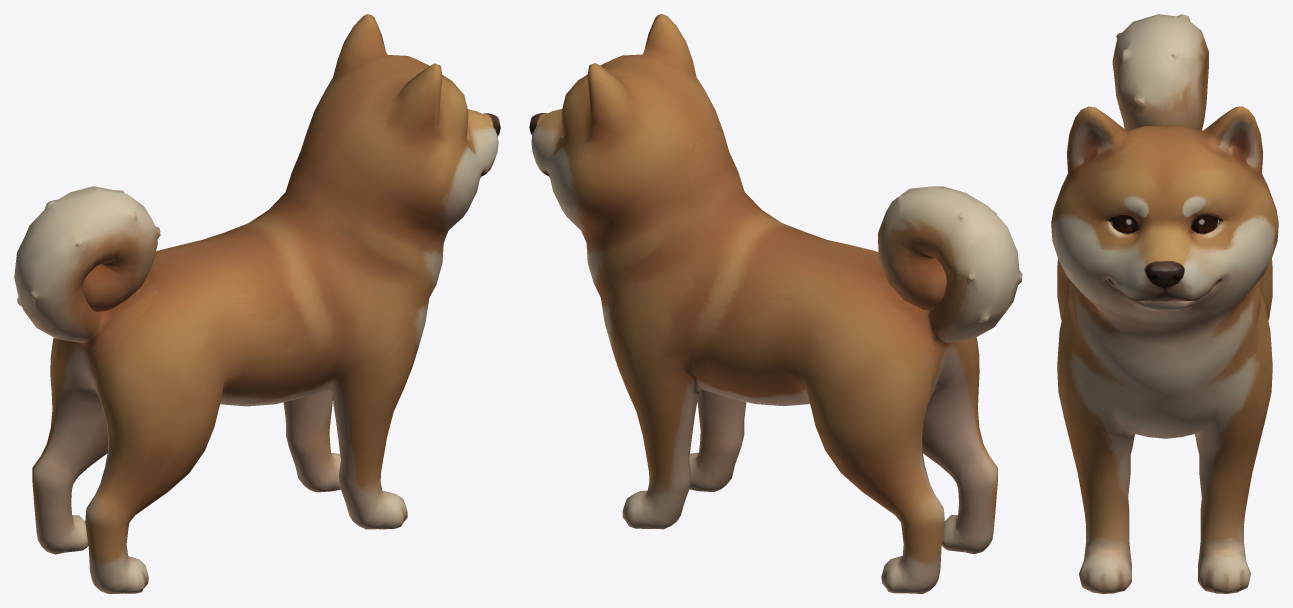
Rendered from village_dog.glb.
3 views of the same model, side by side, from view 1: azimuth 30°, elevation 25°; view 2: azimuth 150°, elevation 25°; view 3: azimuth 270°, elevation 25° (orthographic). The views are drawn at different scales.
Visible parts, largest first — view 1: tripo_node_c631aae7-34c2-4f68-a710-1eef2a4d2431; view 2: tripo_node_c631aae7-34c2-4f68-a710-1eef2a4d2431; view 3: tripo_node_c631aae7-34c2-4f68-a710-1eef2a4d2431.
Boxes of the visible parts, x1,y1,x2,y2 form: tripo_node_c631aae7-34c2-4f68-a710-1eef2a4d2431: (14, 14, 500, 593); tripo_node_c631aae7-34c2-4f68-a710-1eef2a4d2431: (529, 14, 1022, 593); tripo_node_c631aae7-34c2-4f68-a710-1eef2a4d2431: (1051, 14, 1278, 593).
Size of the model in its own units: 0.998 by 0.9043 by 0.3691.
Materials: 1 (1 with a texture image).
